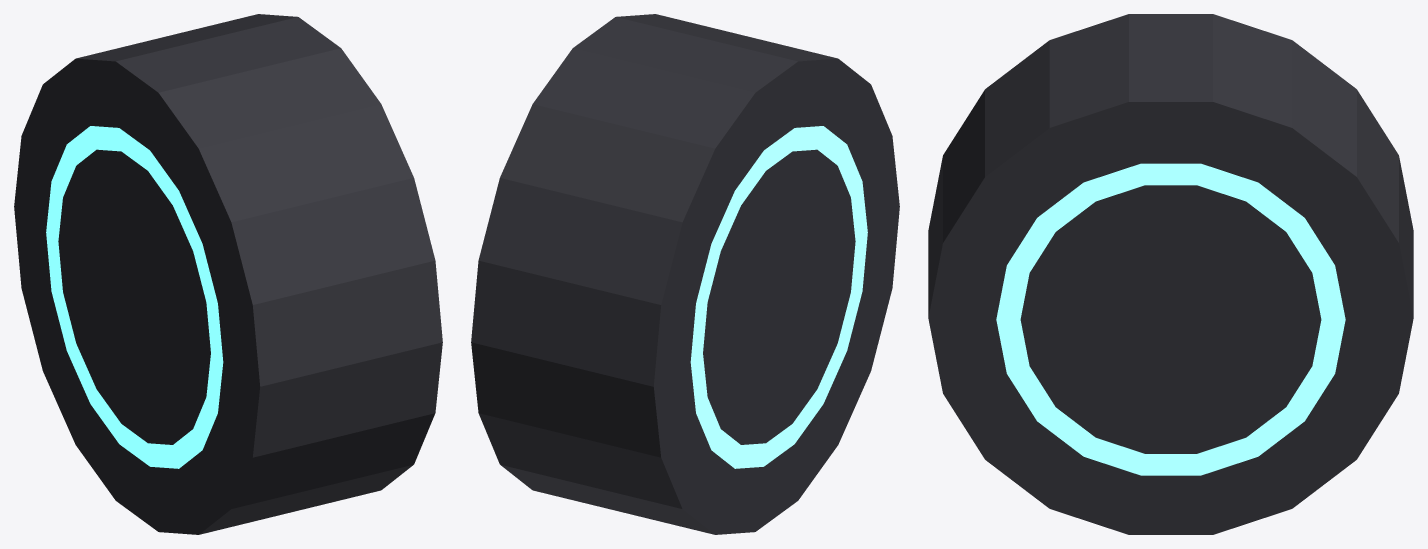
The model's file is wheel.glb.
3 views of the same model, side by side, from view 1: azimuth 30°, elevation 25°; view 2: azimuth 150°, elevation 25°; view 3: azimuth 270°, elevation 25° (orthographic).
Parts seen in each view (by area): view 1: wheel; view 2: wheel; view 3: wheel.
Boxes of the visible parts, left/top/right/bottom form: wheel: left=14, top=14, right=442, bottom=534; wheel: left=471, top=14, right=899, bottom=534; wheel: left=928, top=14, right=1413, bottom=534.
Bounding box in the file's own units: 0.308 × 0.6894 × 0.7.
